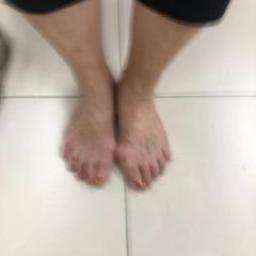Dorsal View -Both Feet-: (44, 51, 186, 203)
